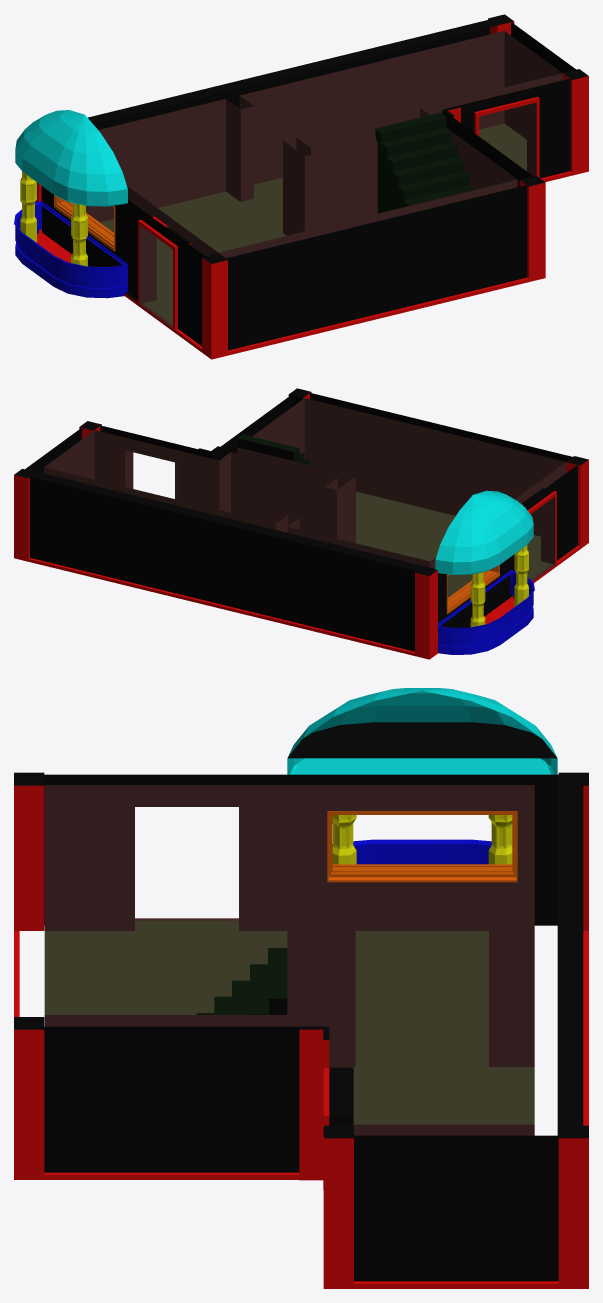
Rendered from CafeBase.fbx.
3 renders of one model, top to bottom at view 1: azimuth 30°, elevation 25°; view 2: azimuth 150°, elevation 25°; view 3: azimuth 270°, elevation 25°, orthographic. The views are drawn at different scales.
Parts seen in each view (by area): view 1: CafeBase1; view 2: CafeBase1; view 3: CafeBase1.
Part boxes in pixels (bbox=[...]): CafeBase1: bbox=[14, 14, 588, 359]; CafeBase1: bbox=[14, 388, 588, 659]; CafeBase1: bbox=[14, 688, 588, 1288].
Bounding box in the file's own units: 16.57 × 4.54 × 10.07.
